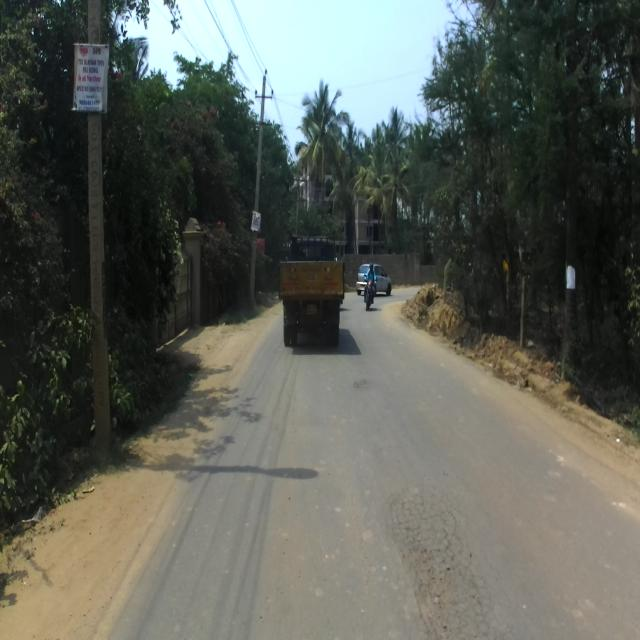electric pole ahead at: (65, 0, 130, 466), (244, 60, 271, 301)
truck ahead at: (284, 222, 345, 344)
